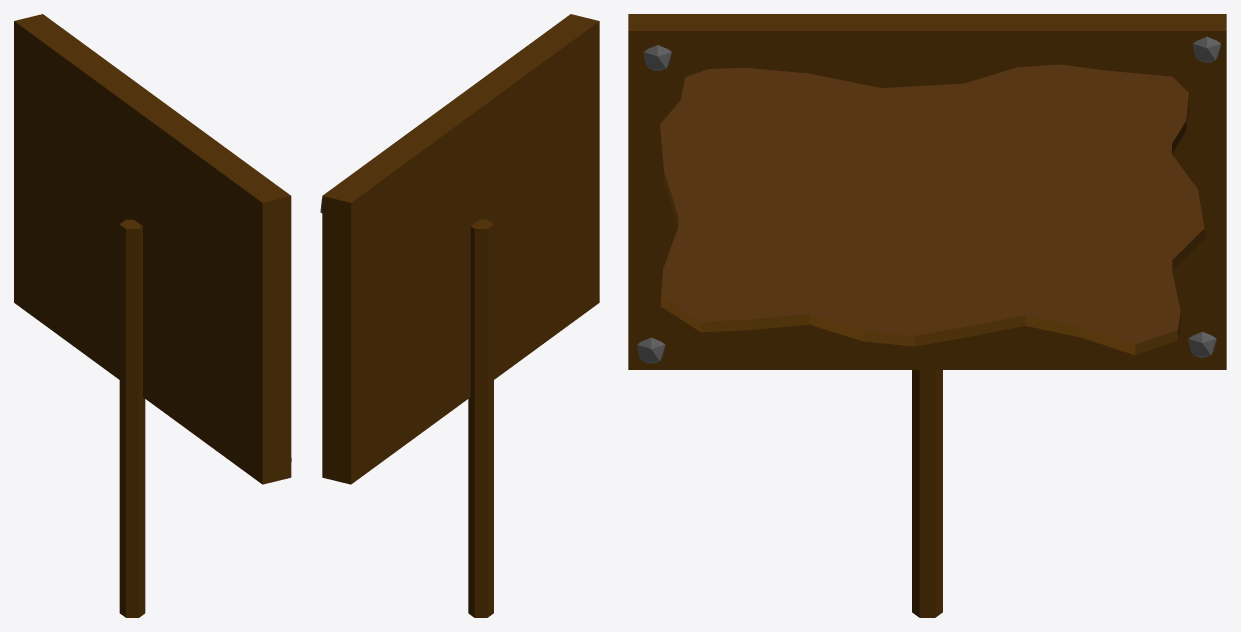
File: tabliczka.fbx
3 renders of one model, left to right at view 1: azimuth 30°, elevation 25°; view 2: azimuth 150°, elevation 25°; view 3: azimuth 270°, elevation 25°, orthographic. The views are drawn at different scales.
Parts seen in each view (by area): view 1: Icosphere.003, Cylinder; view 2: Icosphere.003, Cylinder; view 3: Icosphere.003, Cylinder.
Part boxes in pixels (<box>): Icosphere.003: <box>14,14,291,484</box>; Cylinder: <box>119,219,145,617</box>; Icosphere.003: <box>320,14,599,484</box>; Cylinder: <box>468,219,493,617</box>; Icosphere.003: <box>628,14,1226,369</box>; Cylinder: <box>912,370,942,617</box>.
Bounding box in the file's own units: 84.61 × 767 × 691.
